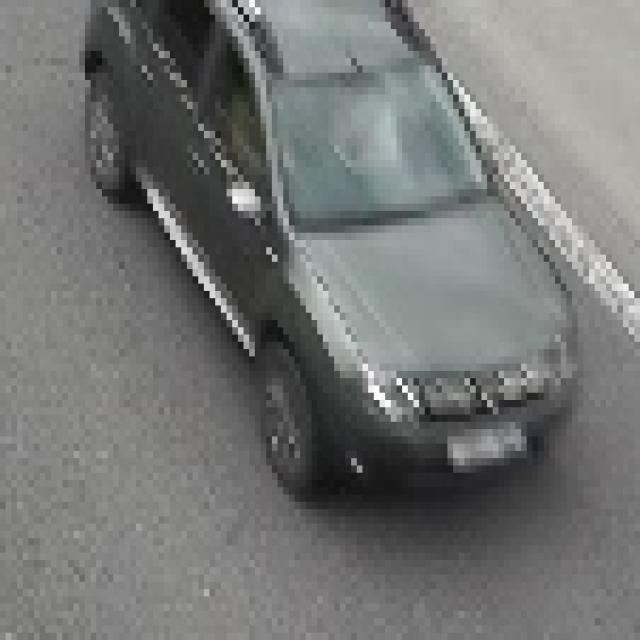SUV: (98, 0, 556, 470)
